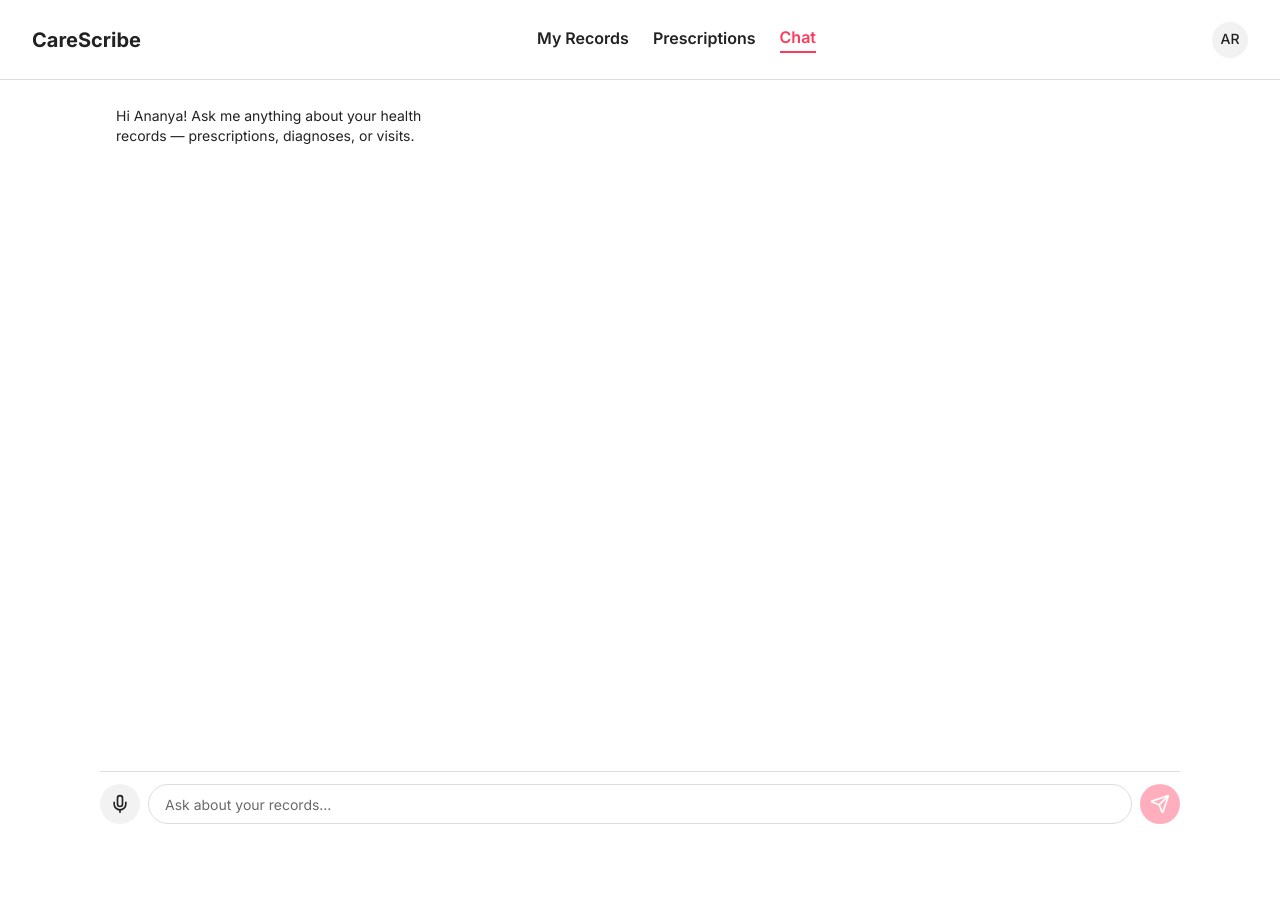
chat assistant › sends a message and shows the reply with sources
This screenshot has width=1280, height=900.
(page scrolled)
Type "What am I taking?" into the field named "Message" at (640, 804), box [148,784,1132,824]
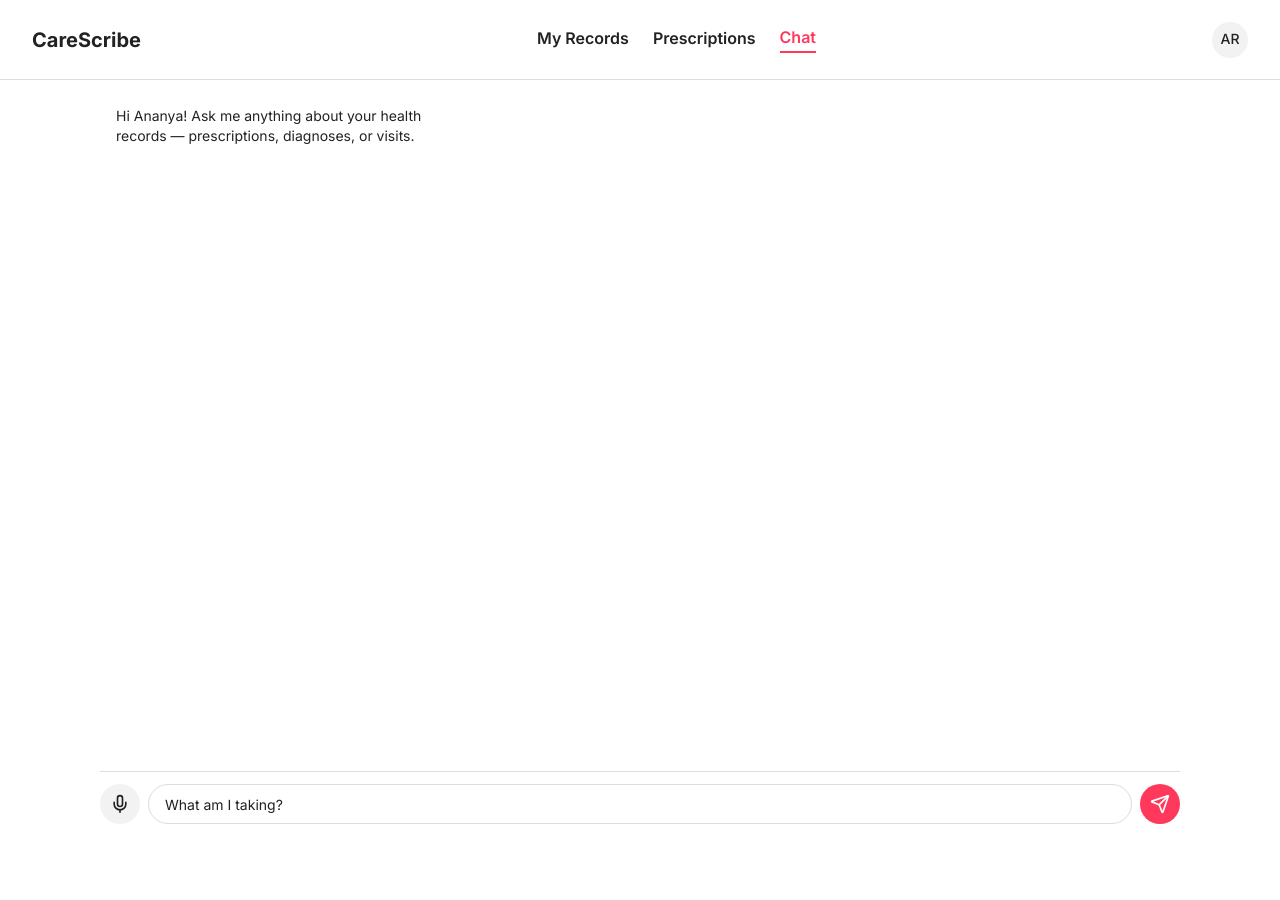
Click the button named "Send message" at (1160, 804), box [1140,784,1180,824]
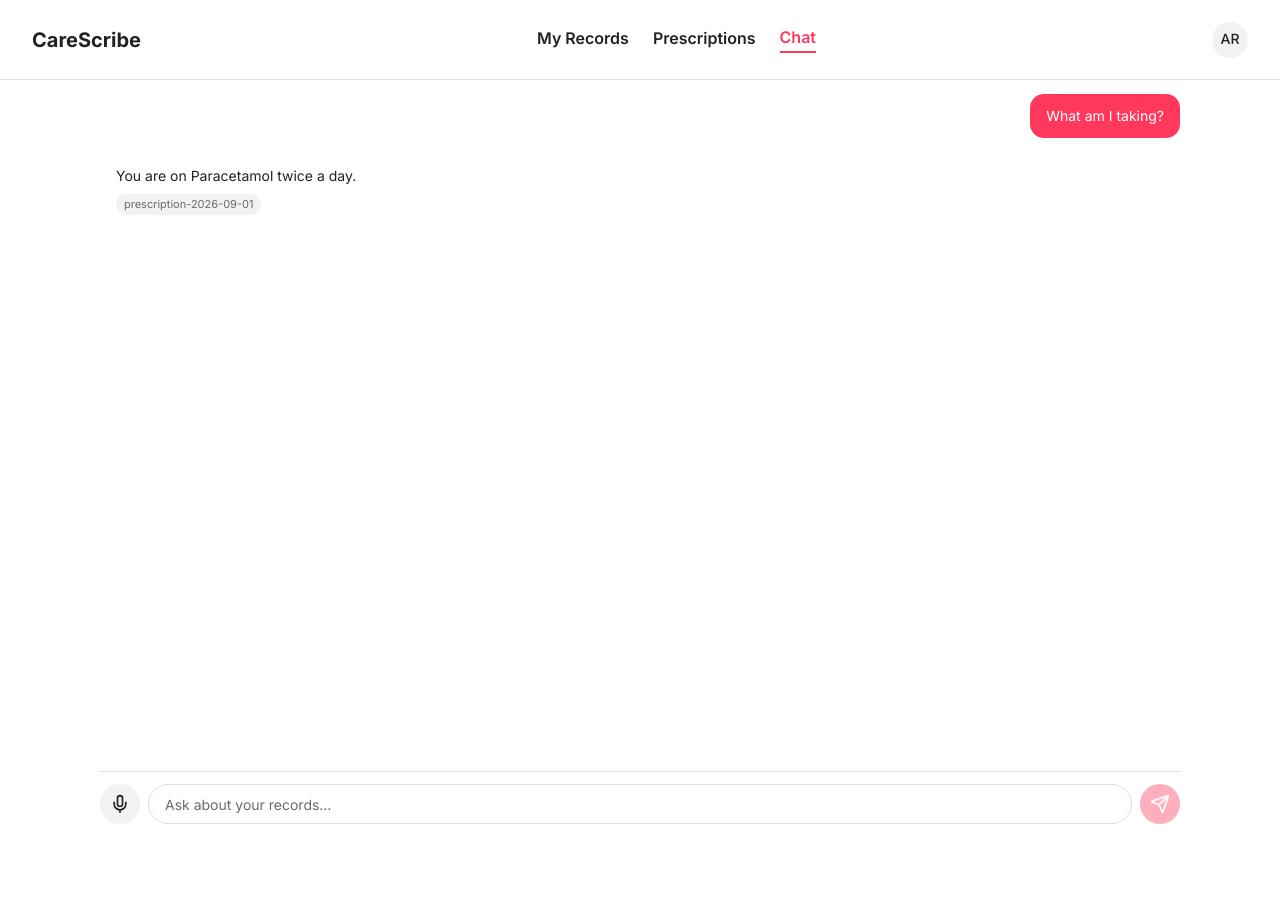
Now the text "You are on Paracetamol twice a day." is shown, box [116,166,356,186]
Now the text "What am I taking?" is shown, box [1046,106,1164,126]
Now the text "prescription-2026-09-01" is shown, box [116,194,261,214]
